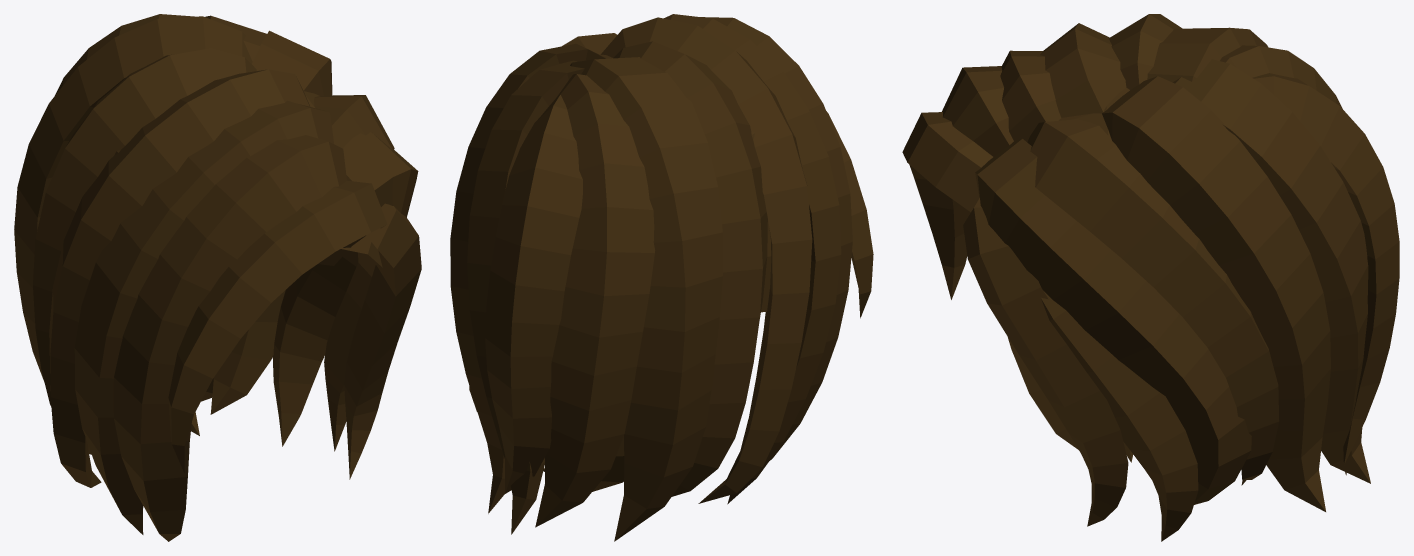
The model's file is Hair_Blond.obj.
3 views of the same model, side by side, from view 1: azimuth 30°, elevation 25°; view 2: azimuth 150°, elevation 25°; view 3: azimuth 270°, elevation 25° (orthographic). The views are drawn at different scales.
Size of the model in its own units: 0.231 by 0.31 by 0.2988.
